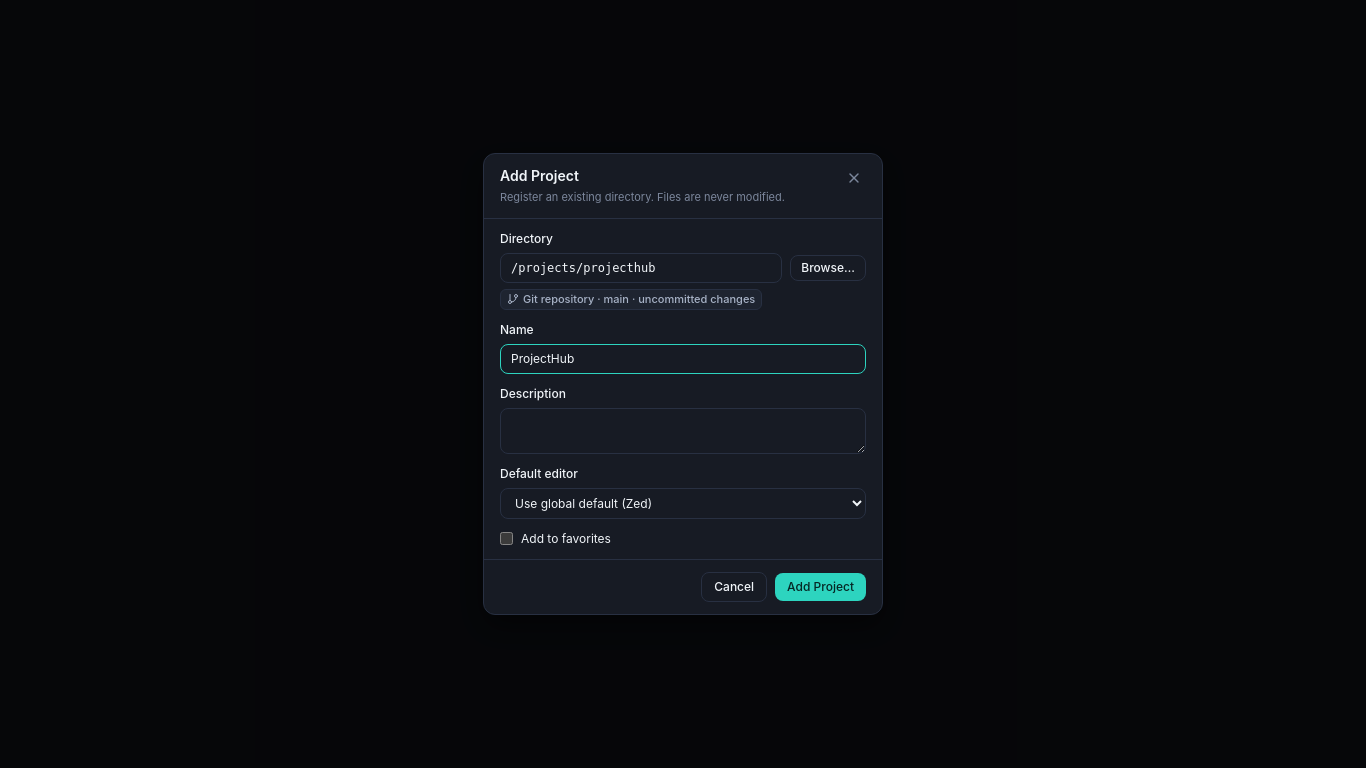
Test: ProjectDialog › preserves the form and shows backend validation errors on add
The image size is (1366, 768).
Click the button "Add Project": (821, 587) [775,573,866,601]
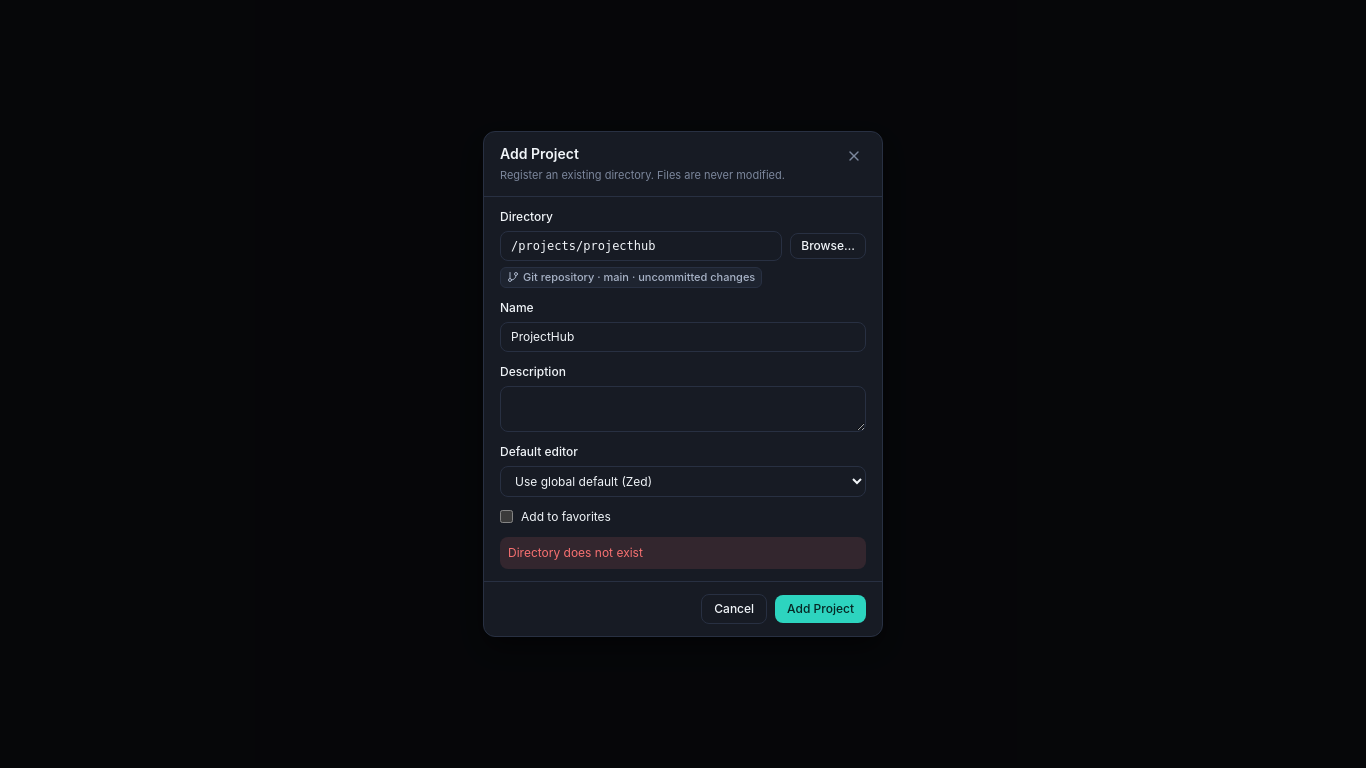
Check: the button "Add Project" is enabled, box [775,595,866,623]
Check: the message "Directory does not exist" is shown, box [500,537,866,569]
